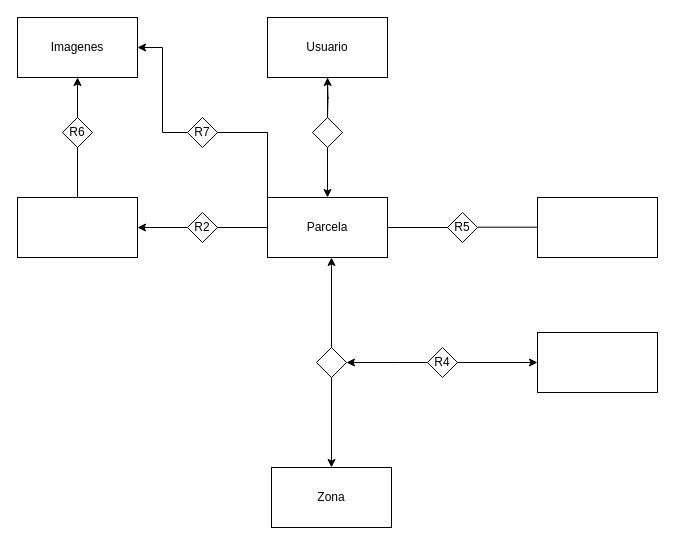
The diagram is 675 pixels wide and 545 high, and some of its shapes have lost their labels. The shapes that lost their labels are listed below. From the top down, each one's centre as x and y in pixels, then its label:
At point 327,132: "R1".
At point 77,227: "Olivo".
At point 597,227: "Metereología".
At point 331,362: "R3".
At point 597,362: "Incidencia".
